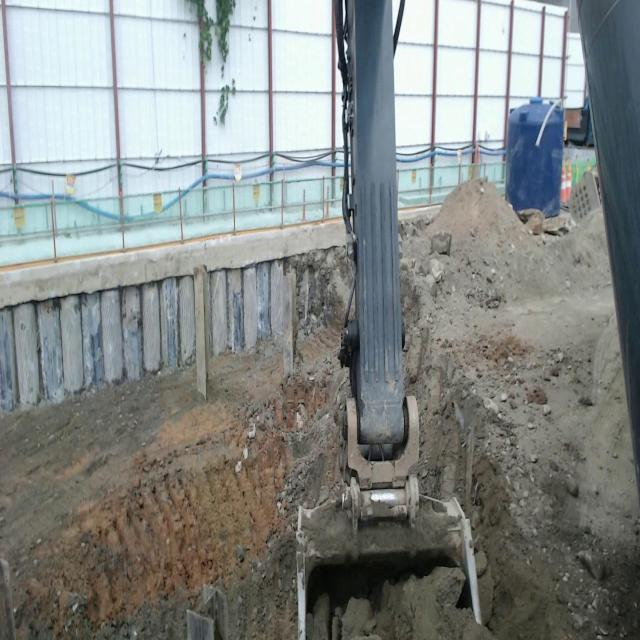cement: (0, 220, 345, 308)
red-sand: (0, 248, 352, 639), (399, 181, 640, 639), (308, 571, 489, 639)
